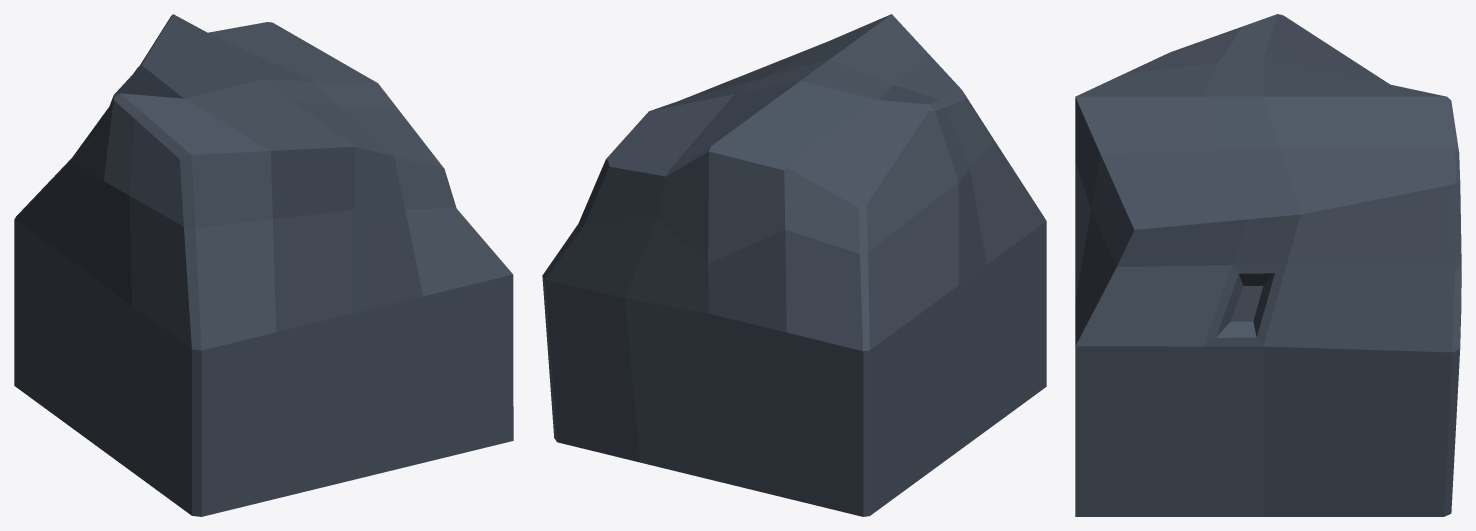
The model's file is Stone_3.fbx.
The picture shows the model from 3 angles, left to right: view 1: azimuth 30°, elevation 25°; view 2: azimuth 150°, elevation 25°; view 3: azimuth 270°, elevation 25°; orthographic projection. The views are drawn at different scales.
Visible parts, largest first — view 1: Stone_3; view 2: Stone_3; view 3: Stone_3.
Boxes of the visible parts, x1,y1,x2,y2 form: Stone_3: [14, 14, 513, 516]; Stone_3: [542, 14, 1046, 516]; Stone_3: [1075, 14, 1461, 516].
Size of the model in its own units: 64.35 by 65.57 by 64.56.
